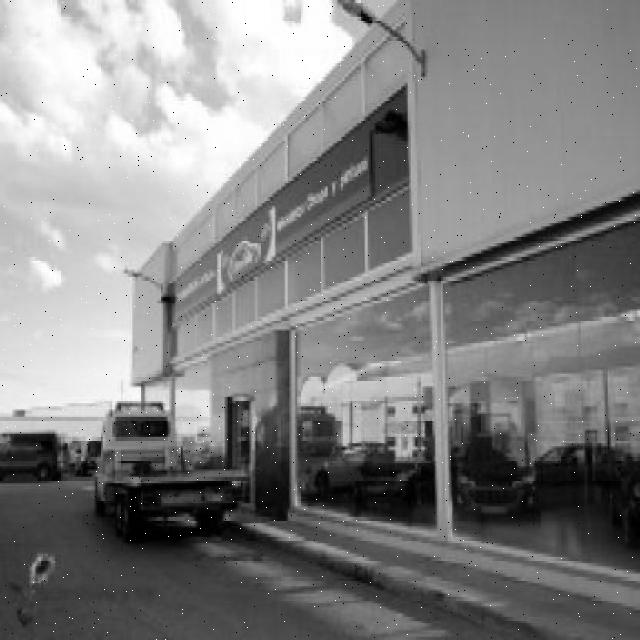Tow Truck: (94, 401, 247, 541)
